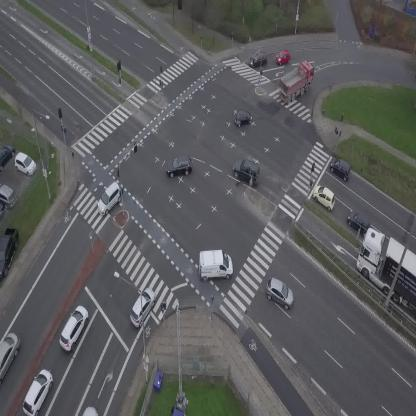car: (54, 303, 94, 353), (18, 367, 57, 416), (124, 285, 161, 328), (0, 330, 26, 387), (91, 180, 128, 218), (260, 276, 299, 310), (228, 155, 265, 189), (309, 183, 340, 211), (342, 208, 373, 236), (326, 154, 356, 181), (164, 154, 194, 178), (247, 50, 269, 67), (273, 48, 292, 66), (234, 111, 252, 127)
lorry: (271, 57, 324, 107), (197, 248, 234, 283)
